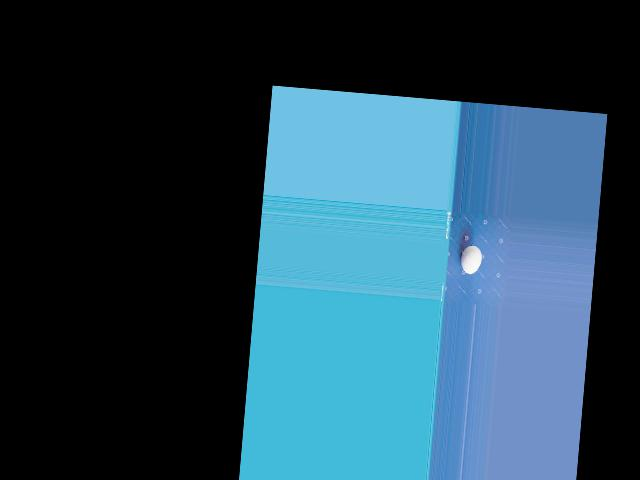egg: (459, 245, 482, 275)
